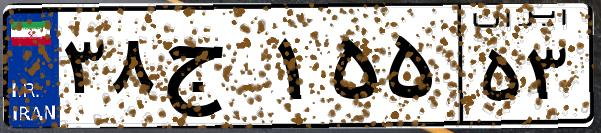1: (270, 28, 330, 110)
3: (57, 26, 110, 100), (525, 38, 570, 115)
5: (385, 28, 445, 110), (330, 28, 385, 110), (475, 38, 525, 113)
8: (110, 28, 158, 98)
ج: (158, 20, 270, 120)
